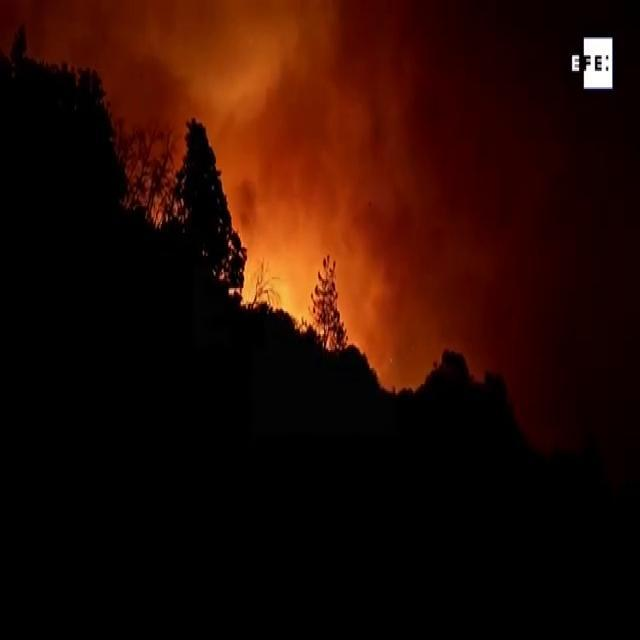Fire: (336, 251, 432, 397), (239, 183, 316, 336), (464, 326, 558, 444), (150, 198, 168, 232)
Smoke: (42, 3, 182, 180)
